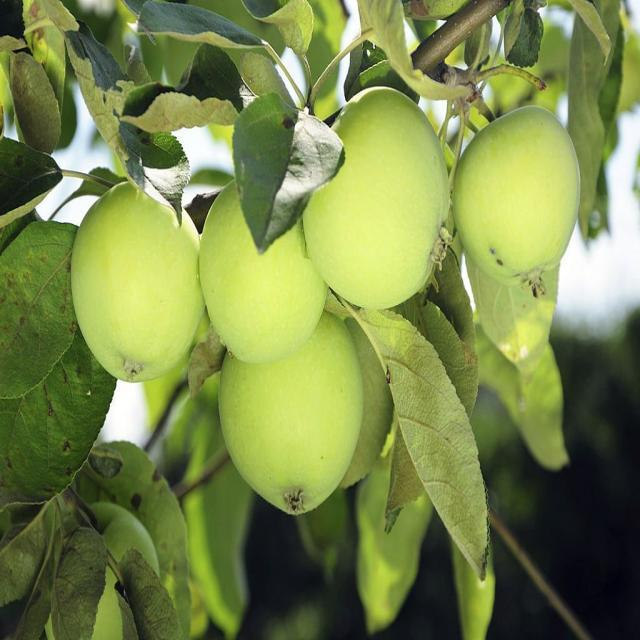Green Apple: (218, 306, 366, 505), (320, 97, 453, 316), (72, 186, 205, 386), (469, 102, 591, 285), (202, 184, 317, 341), (71, 499, 164, 640)
